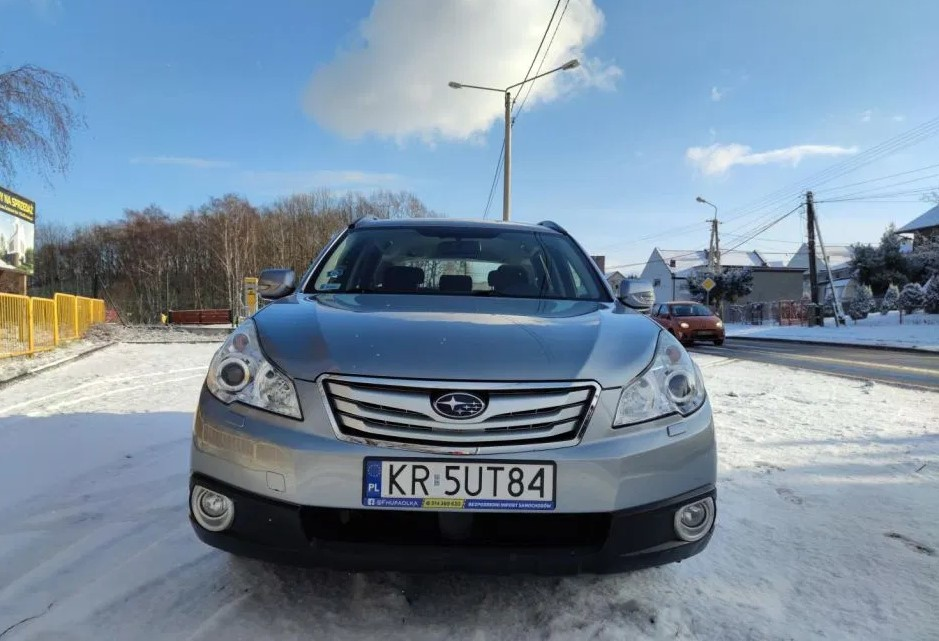number_plate: (354, 452, 566, 522)
